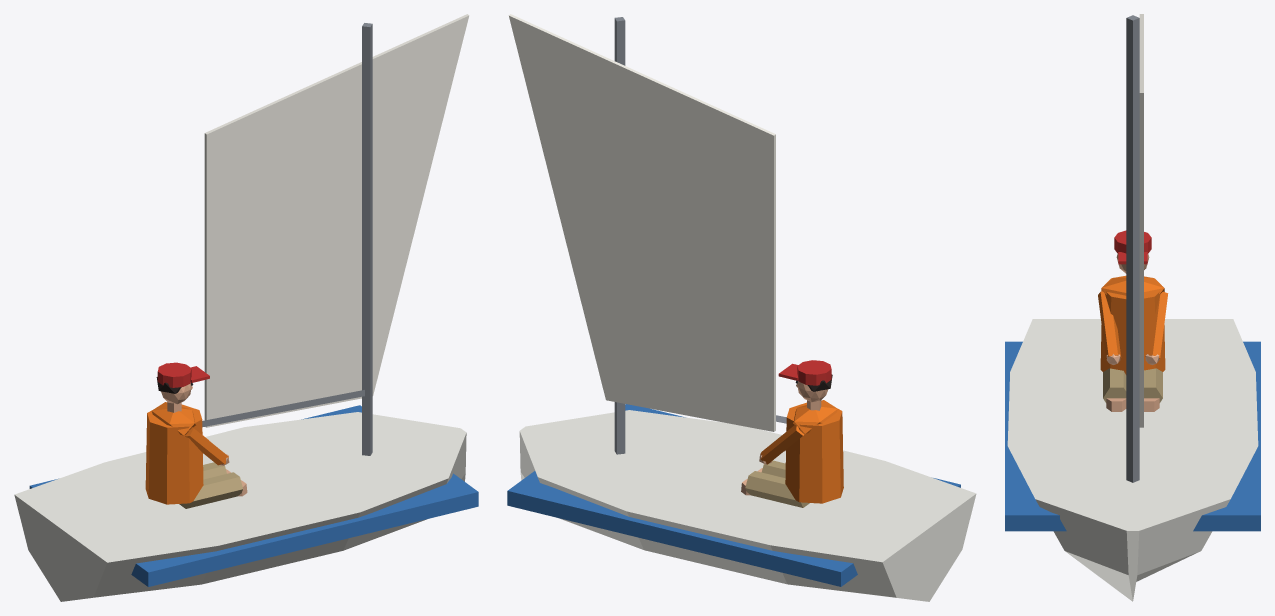
Rendered from jolle.glb.
3 renders of one model, left to right at view 1: azimuth 30°, elevation 25°; view 2: azimuth 150°, elevation 25°; view 3: azimuth 270°, elevation 25°, orthographic. The views are drawn at different scales.
Visible parts, largest first — view 1: jolle; view 2: jolle; view 3: jolle.
Part boxes in pixels (bbox=[...]): jolle: bbox=[14, 14, 478, 601]; jolle: bbox=[507, 14, 976, 601]; jolle: bbox=[1005, 14, 1260, 601].
Size of the model in its own units: 2.35 by 2.8 by 1.17.
